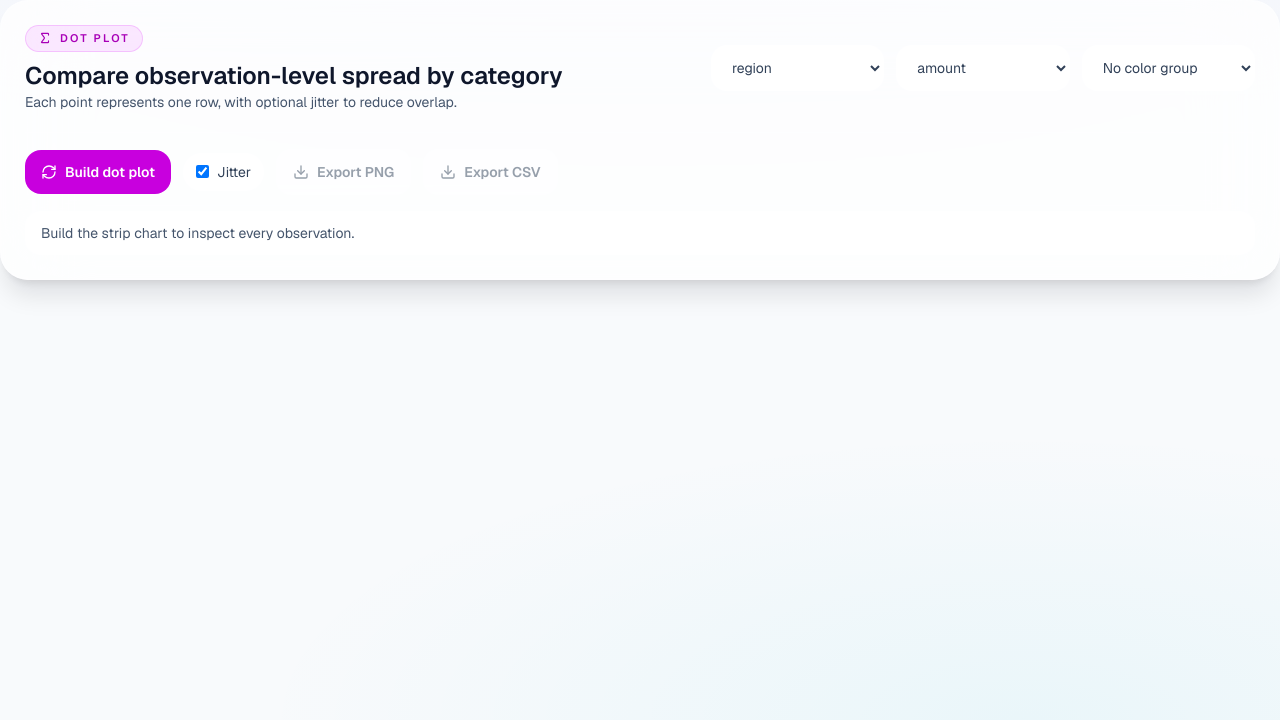
it: DotPlot › shows query errors when the plot cannot be built
This screenshot has width=1280, height=720.
Click the button "Build dot plot".
click(98, 172)  # box [25,150,171,194]
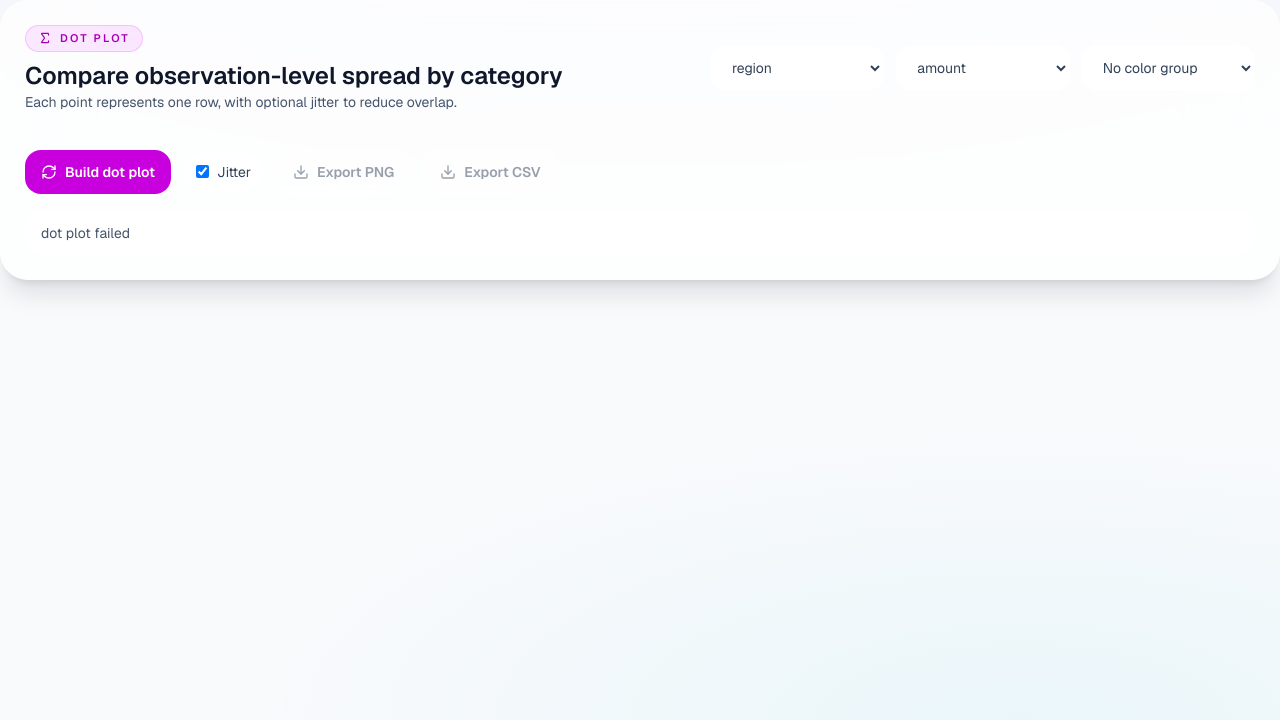
Result: the text "dot plot failed" is shown at [25,210,1255,254]
